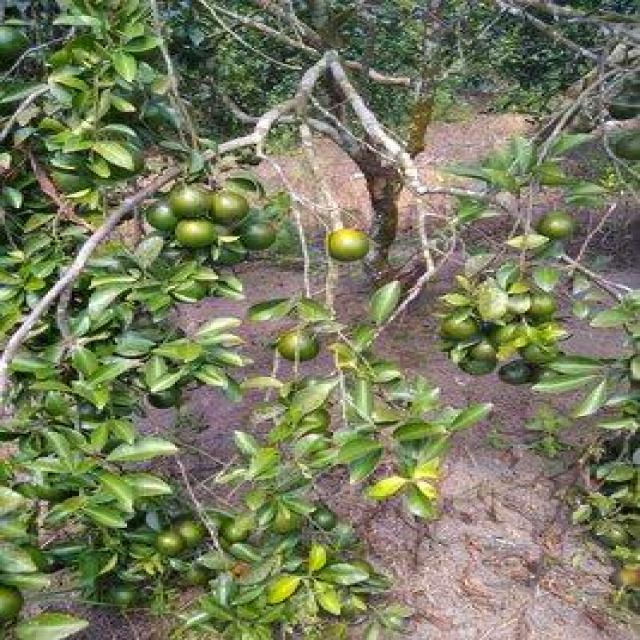Jeruk Belum Matang: (173, 217, 218, 249), (328, 228, 369, 262), (209, 190, 249, 224), (172, 186, 212, 218), (278, 332, 319, 362), (237, 220, 278, 249), (439, 311, 477, 340), (537, 212, 578, 238), (146, 199, 180, 229), (498, 359, 532, 386), (156, 530, 187, 556), (146, 388, 182, 410), (175, 519, 204, 544), (218, 519, 247, 544), (528, 292, 558, 316), (312, 506, 338, 532), (613, 133, 640, 158), (469, 341, 498, 359)
